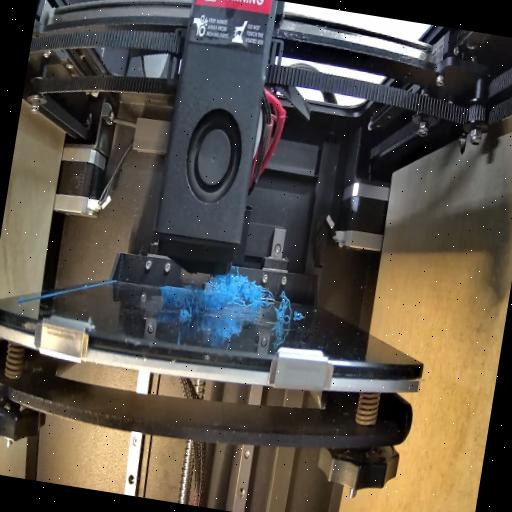spaghetti: (208, 270, 278, 318), (170, 278, 212, 326), (273, 292, 296, 330)
